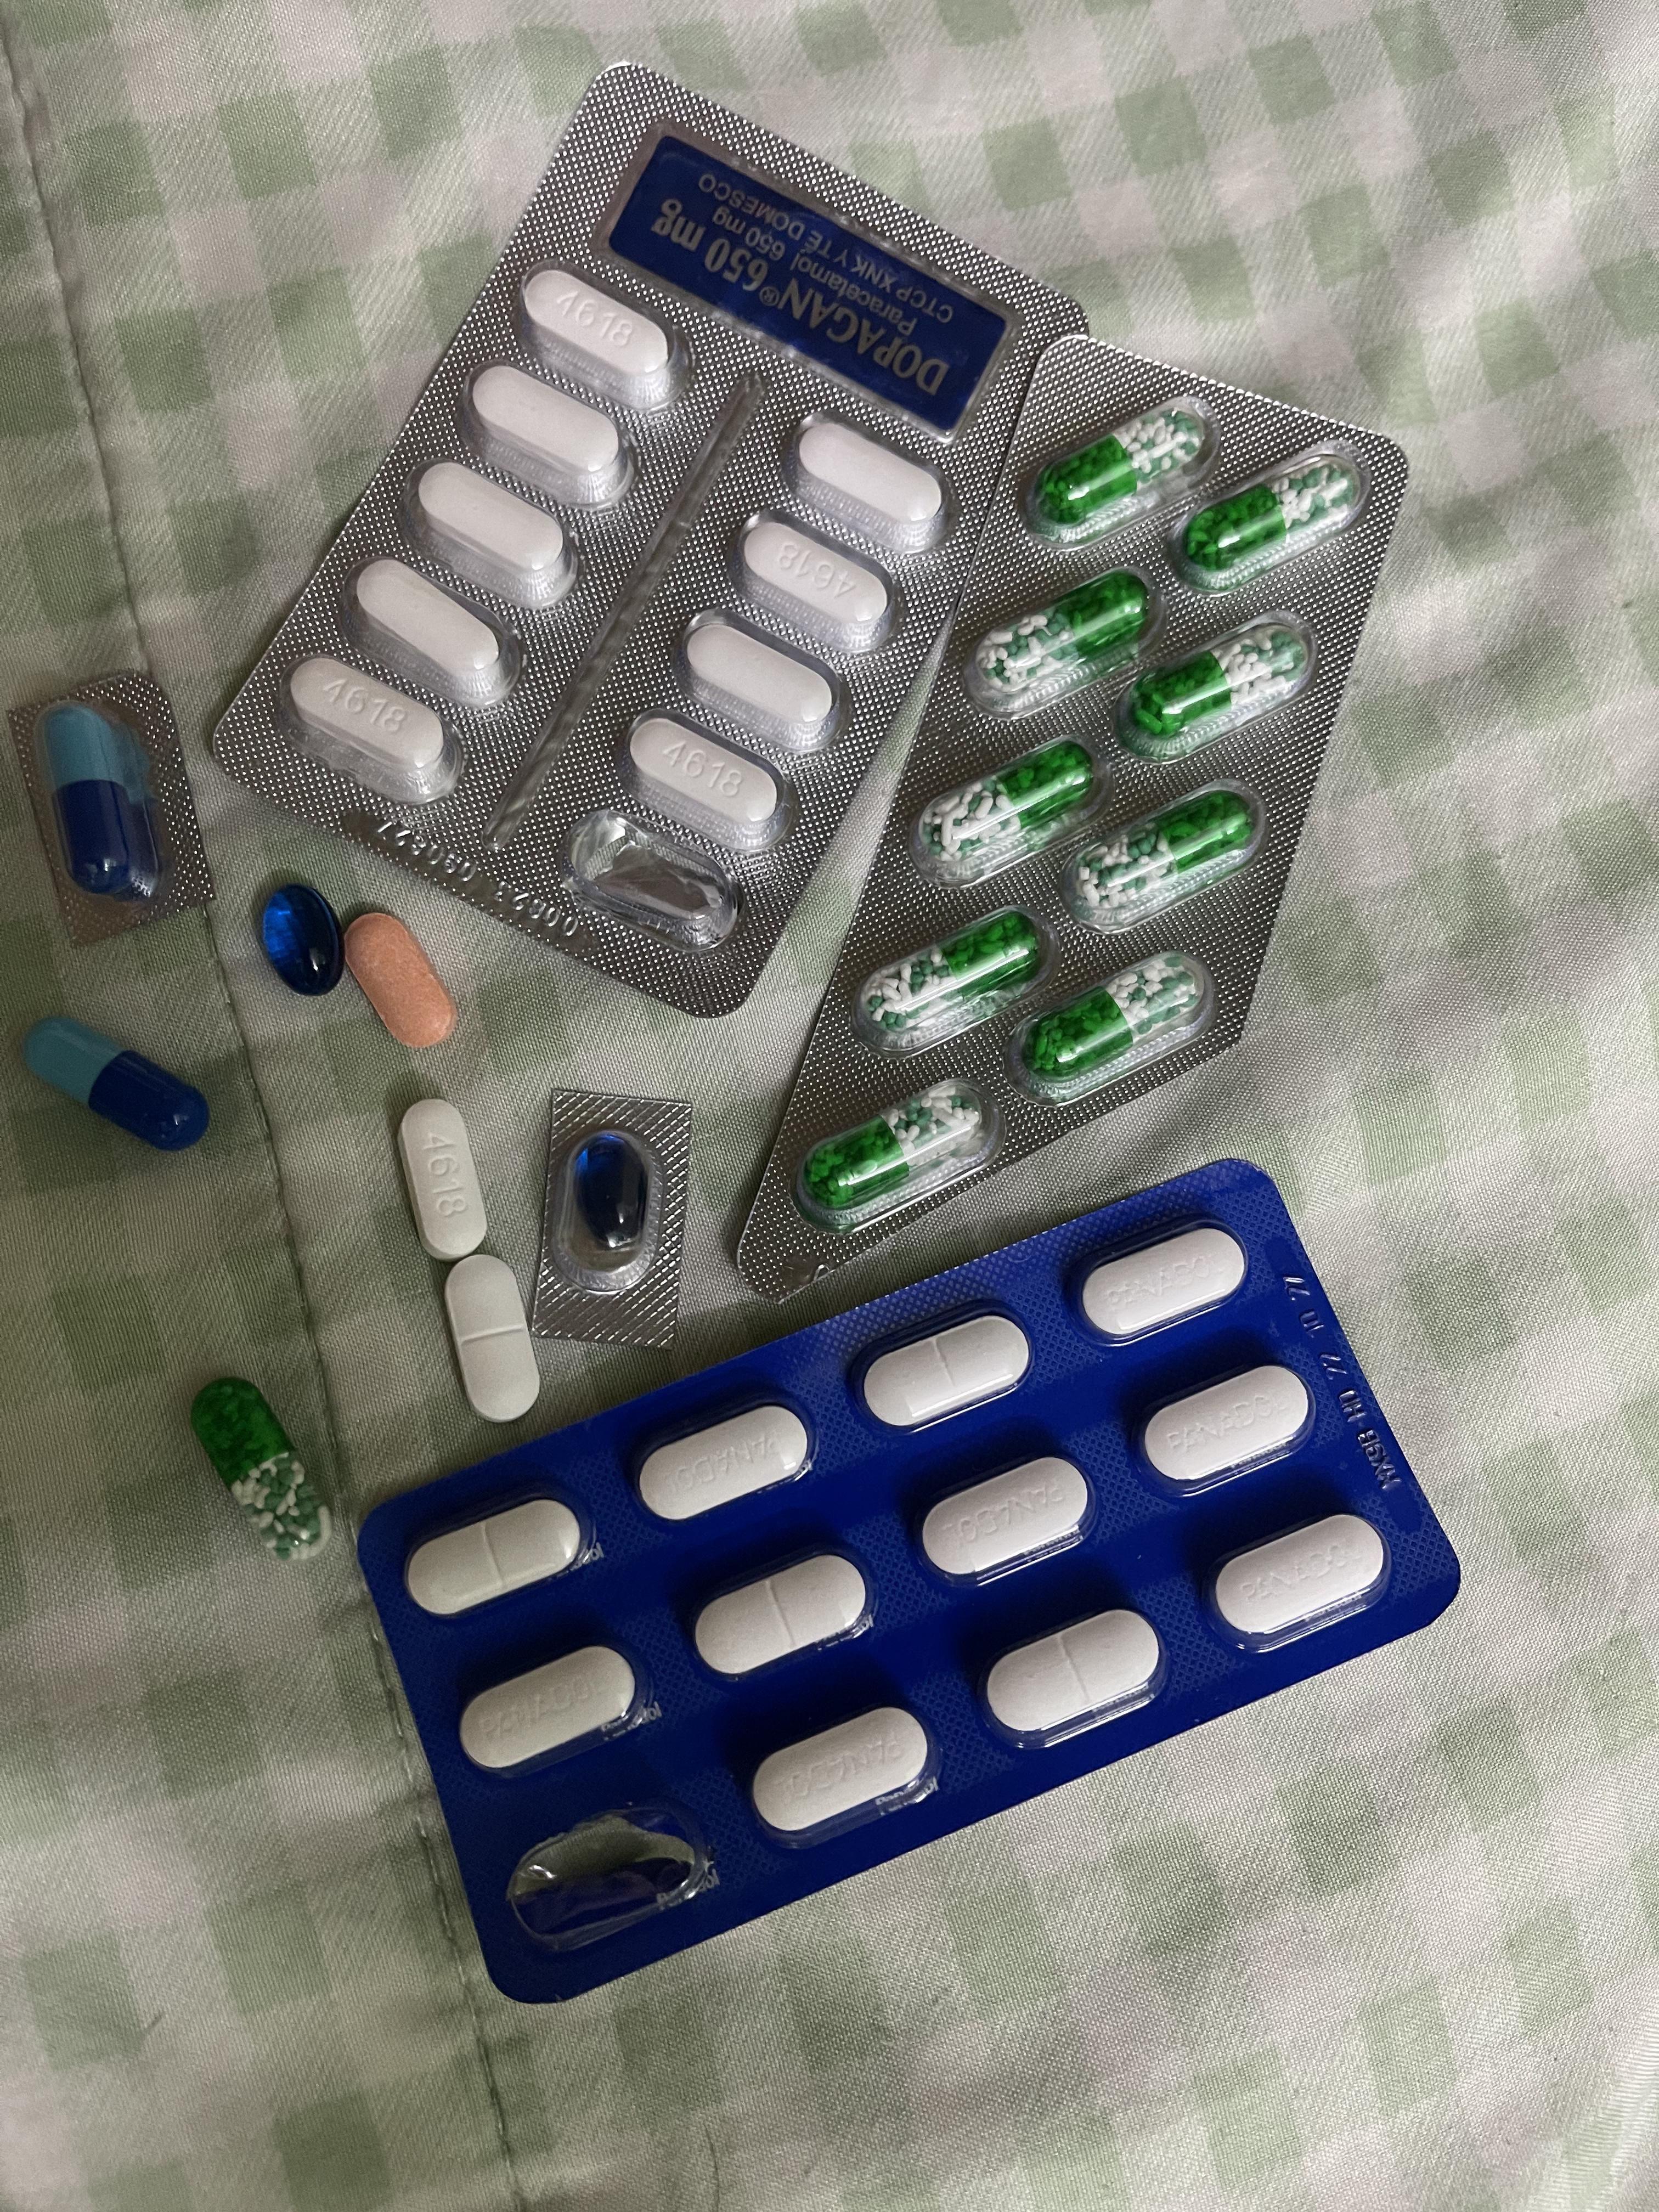Lincomyxin_500mg: (260, 880, 347, 995), (572, 1132, 650, 1254)
Loratadine_10mg: (343, 913, 458, 1050)
Paracetamol_350mg: (748, 1703, 938, 1848), (979, 1604, 1164, 1745), (1206, 1512, 1394, 1649), (460, 1644, 641, 1782), (915, 1453, 1096, 1587), (1136, 1360, 1319, 1493), (852, 1303, 1035, 1433), (688, 1548, 871, 1679), (633, 1399, 817, 1524), (1068, 1214, 1253, 1339), (404, 1493, 587, 1616), (443, 1252, 544, 1413)
Paracetamol_500mg: (465, 366, 629, 510), (413, 460, 572, 603), (356, 556, 509, 698), (627, 716, 788, 850), (293, 660, 451, 794), (525, 265, 676, 390), (793, 418, 946, 536), (683, 620, 833, 740), (744, 521, 885, 637), (397, 1099, 493, 1258)
Paracetamol_650mg: (192, 1376, 333, 1561), (1063, 792, 1251, 927), (1025, 956, 1204, 1083), (1032, 408, 1209, 535), (805, 1076, 990, 1198), (859, 916, 1033, 1045), (918, 747, 1093, 874), (1182, 458, 1358, 583), (1122, 629, 1304, 744), (978, 580, 1143, 704)
pill: (23, 1015, 211, 1150), (44, 704, 160, 906)
